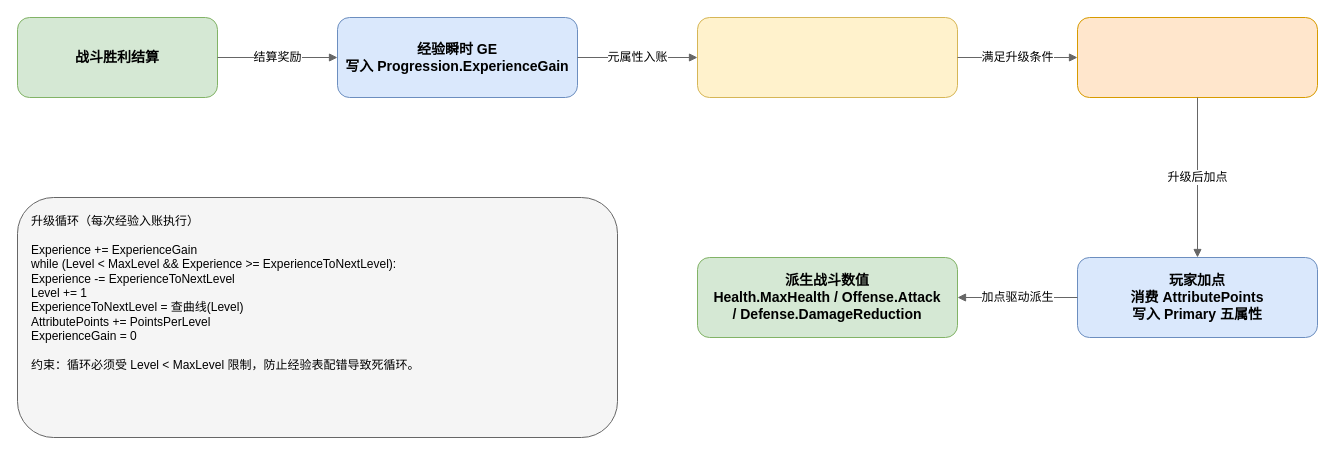
Some shapes in this 1335 by 455 pixel diagram are drawn without their labels. Each missing label, with the centre of its shape:
"Level++ AttributePoints += 3 SkillPoints += 1 广播 OnLevelUp" belongs at point (1197, 57).
"PostGameplayEffectExecute 循环升级结算 （限次 + 溢出结转）" belongs at point (827, 57).
